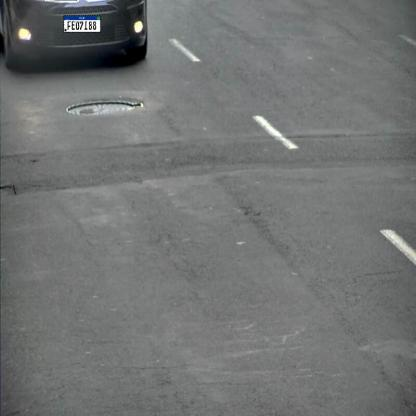PlacaM: (63, 15, 101, 33)
